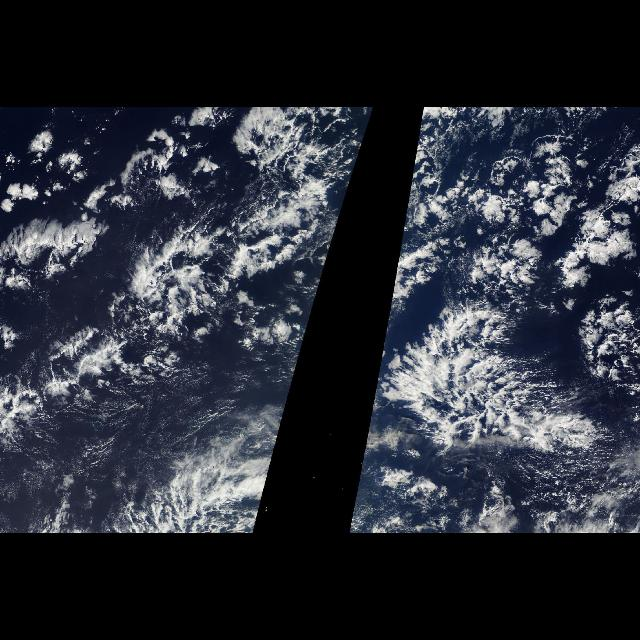Fish: (0, 160, 348, 458), (379, 284, 617, 482)
Flower: (2, 108, 122, 304)
Gravel: (228, 107, 374, 271), (395, 107, 489, 271)
Sugar: (0, 391, 258, 534), (504, 391, 638, 533)
